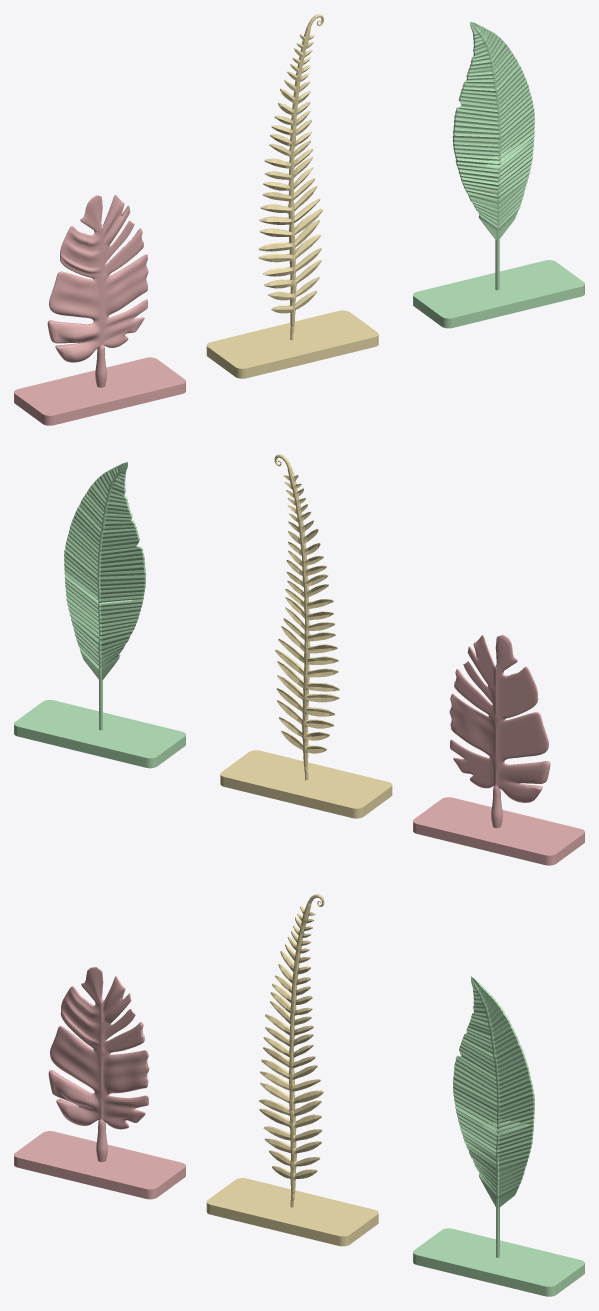
Rendered from Leafs.fbx.
3 views of the same model, one above another, from view 1: azimuth 30°, elevation 25°; view 2: azimuth 150°, elevation 25°; view 3: azimuth 330°, elevation 25° (orthographic).
Parts seen in each view (by area): view 1: Feather, A_leaf, Wheat; view 2: Feather, A_leaf, Wheat; view 3: Feather, A_leaf, Wheat.
Boxes of the visible parts, bbox=[...] form: Feather: bbox=[413, 21, 584, 328]; A_leaf: bbox=[14, 194, 185, 425]; Wheat: bbox=[206, 14, 378, 378]; Feather: bbox=[14, 462, 185, 768]; A_leaf: bbox=[413, 634, 584, 865]; Wheat: bbox=[220, 454, 392, 818]; Feather: bbox=[413, 976, 584, 1296]; A_leaf: bbox=[14, 967, 185, 1199]; Wheat: bbox=[206, 894, 378, 1246].
Size of the model in its own units: 89.19 by 51.78 by 10.26.
